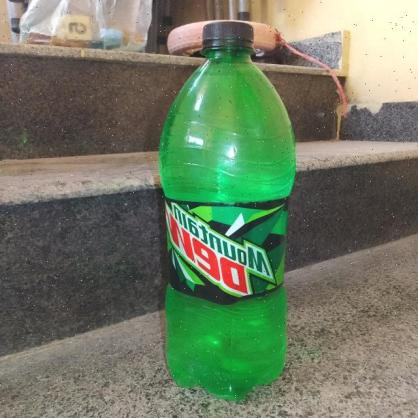bottle: (140, 17, 304, 404)
cap: (192, 16, 259, 58)
label: (172, 200, 281, 306)
